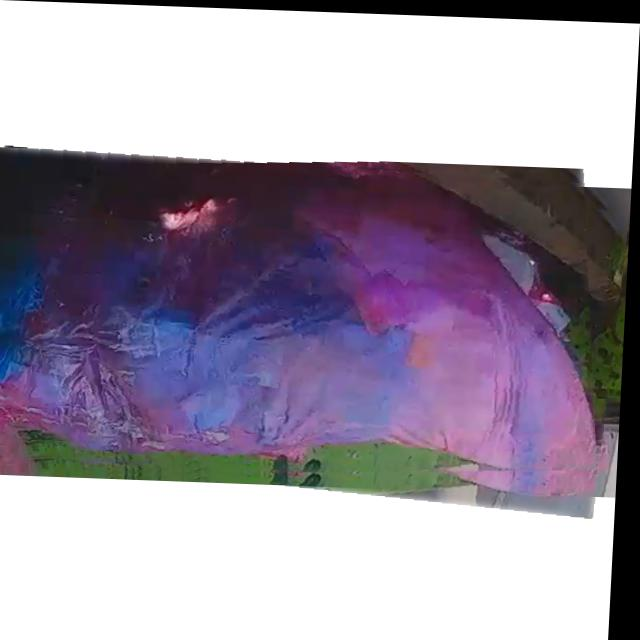other_trashbag: (0, 147, 600, 471)
